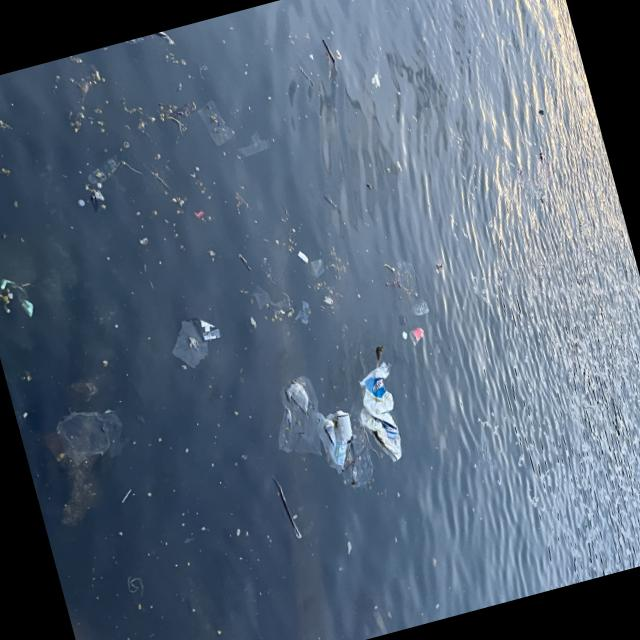foam: (297, 250, 308, 266)
plastic bag: (274, 384, 374, 486), (357, 363, 416, 457)
